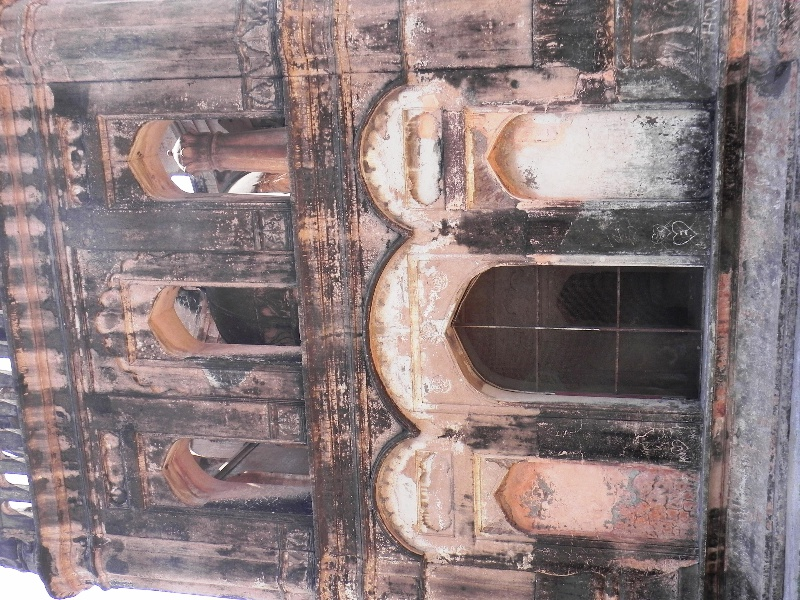Spalling: (522, 162, 542, 191)
